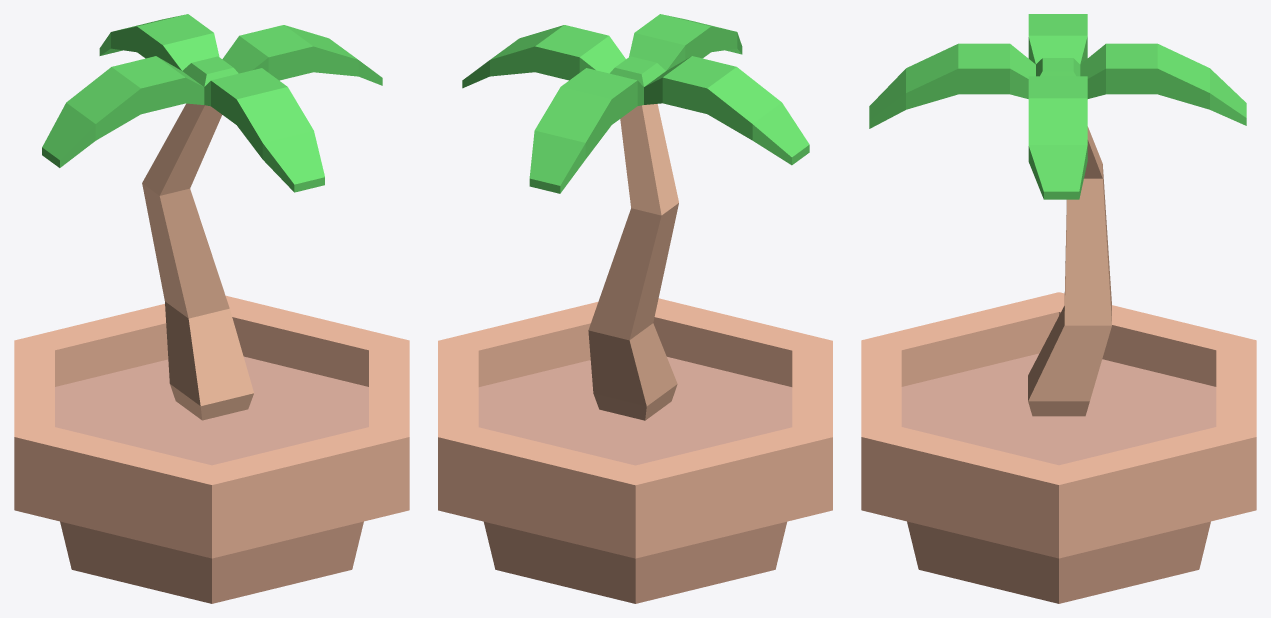
Rendered from plant_palm.glb.
3 views of the same model, side by side, from view 1: azimuth 30°, elevation 25°; view 2: azimuth 150°, elevation 25°; view 3: azimuth 270°, elevation 25° (orthographic).
Parts seen in each view (by area): view 1: pot_large, tree_palmShort; view 2: pot_large, tree_palmShort; view 3: pot_large, tree_palmShort.
Part boxes in pixels (<box>): pot_large: <box>14,295,409,603</box>; tree_palmShort: <box>42,14,382,420</box>; pot_large: <box>438,298,832,603</box>; tree_palmShort: <box>462,14,809,420</box>; pot_large: <box>861,292,1256,603</box>; tree_palmShort: <box>869,14,1246,416</box>.
Bounding box in the file's own units: 1.55 × 1.8 × 1.35.
